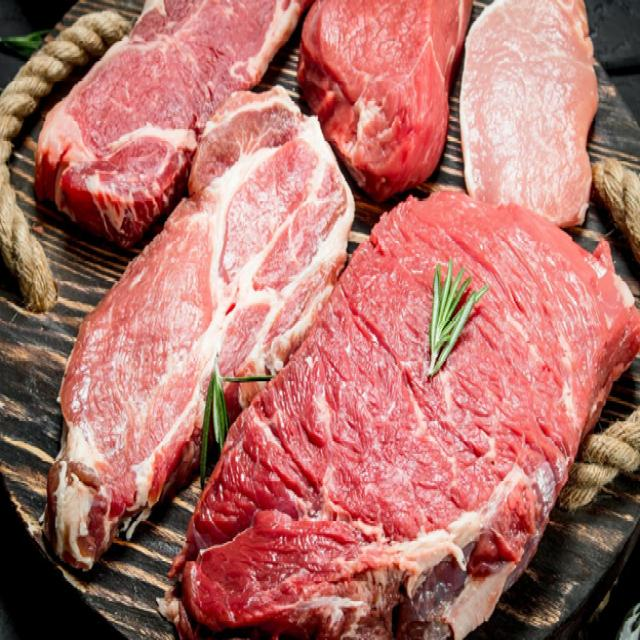beef: (152, 178, 640, 639), (38, 76, 355, 593), (36, 2, 309, 254), (282, 1, 474, 195)
